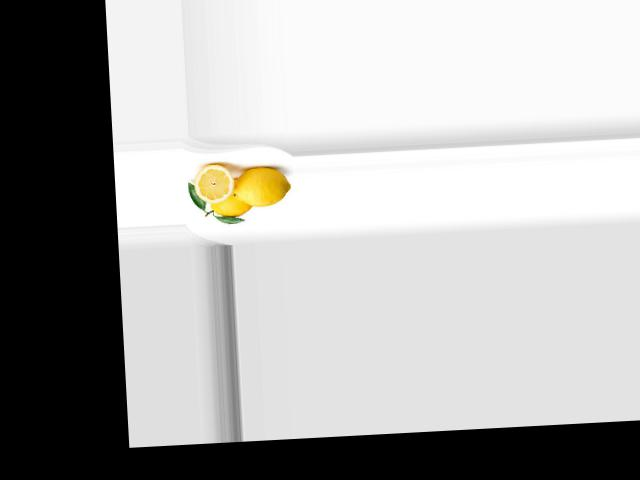lemon: (203, 180, 255, 220)
